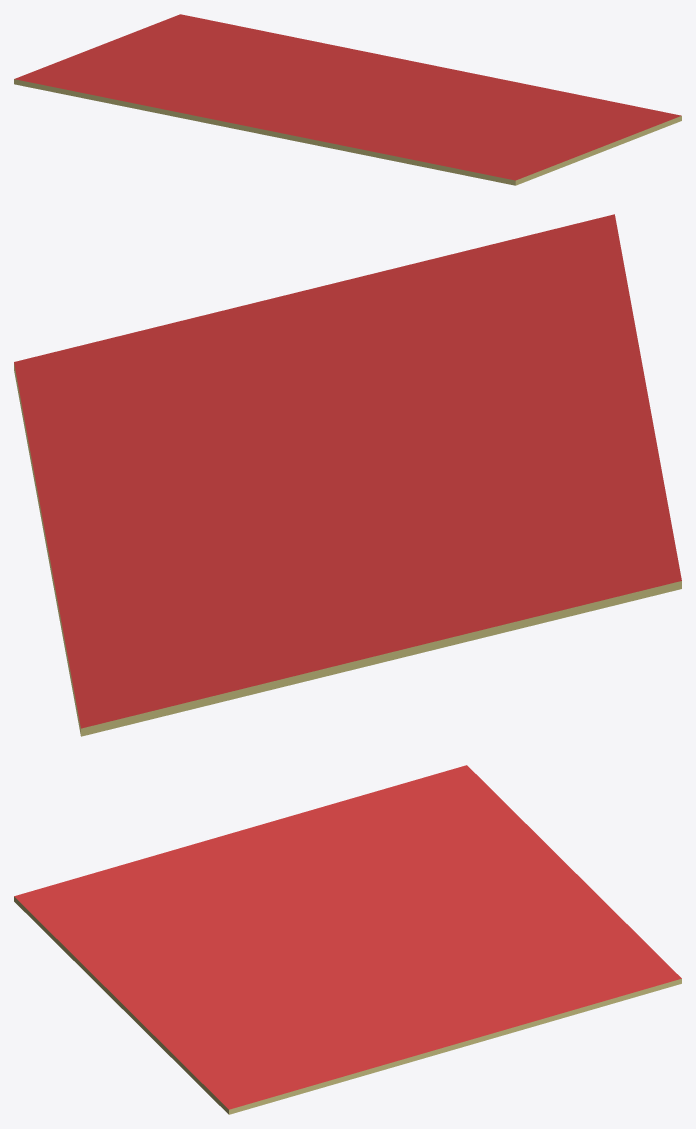
The picture shows the model from 3 angles, top to bottom: view 1: azimuth 30°, elevation 25°; view 2: azimuth 150°, elevation 25°; view 3: azimuth 270°, elevation 25°; orthographic projection. The views are drawn at different scales.
Size of the model in its own units: 11.06 by 11.83 by 1.68.
